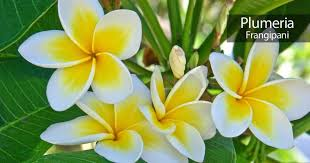frangipani: (16, 1, 141, 111)
